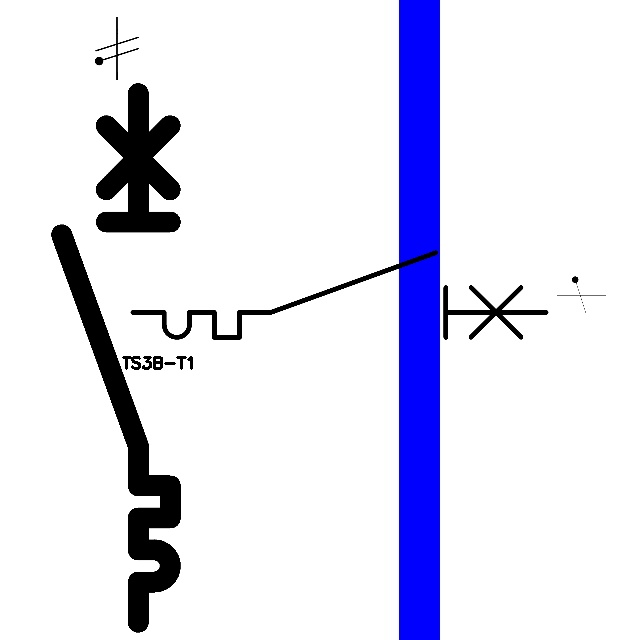interruptor_termomagnetico: (48, 79, 184, 635), (122, 242, 556, 348)
